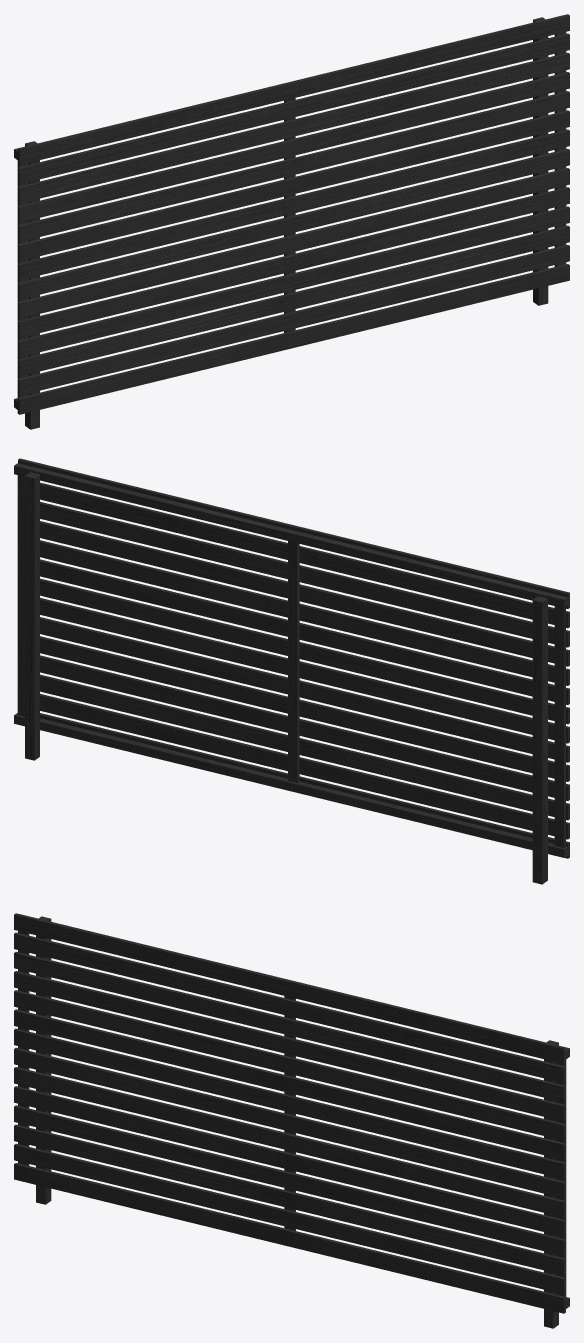
The model's file is EAF-plus-53_w1999-h1000_chacoalgray.fbx.
3 renders of one model, top to bottom at view 1: azimuth 30°, elevation 25°; view 2: azimuth 150°, elevation 25°; view 3: azimuth 330°, elevation 25°, orthographic.
Visible parts, largest first — view 1: EAF-plus-53_w1999-h1000_chacoalgray.001; view 2: EAF-plus-53_w1999-h1000_chacoalgray.001; view 3: EAF-plus-53_w1999-h1000_chacoalgray.001.
Part boxes in pixels (box(x1,y1,x2,y2)): EAF-plus-53_w1999-h1000_chacoalgray.001: box(14, 14, 569, 429); EAF-plus-53_w1999-h1000_chacoalgray.001: box(14, 458, 569, 884); EAF-plus-53_w1999-h1000_chacoalgray.001: box(14, 913, 569, 1328).
Bounding box in the file's own units: 200 × 99.97 × 7.
1 material, 1 textured.
